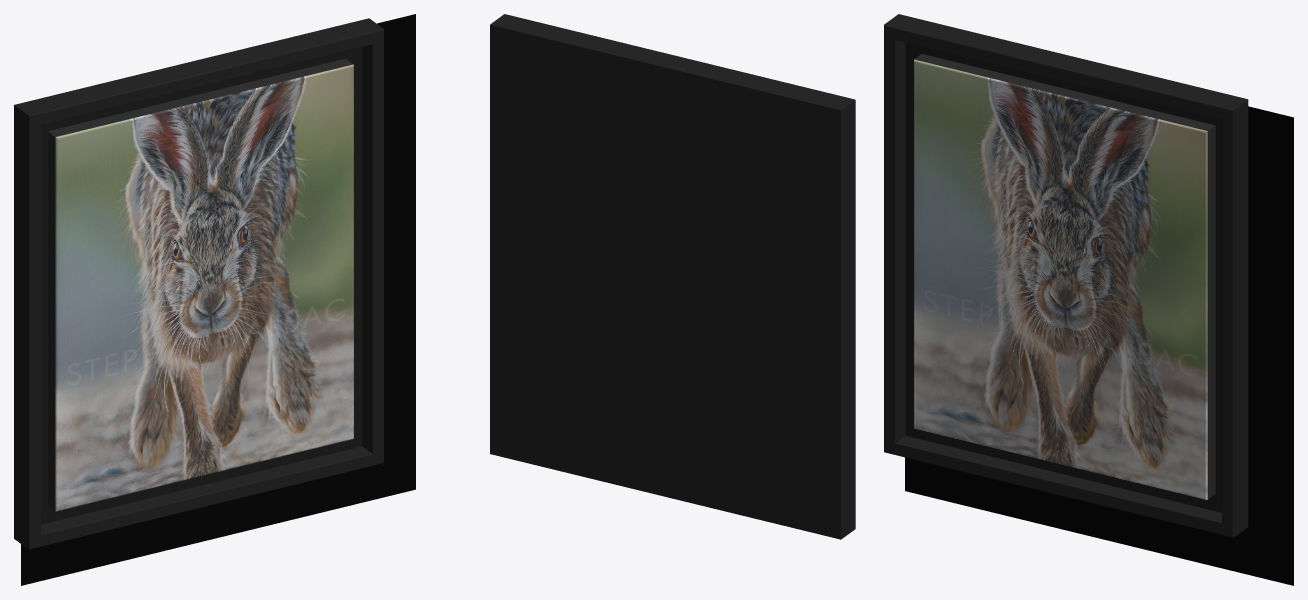
Rendered from tableau-peinture-lievre-course-classique-ff2bd219.glb.
3 views of the same model, side by side, from view 1: azimuth 30°, elevation 25°; view 2: azimuth 150°, elevation 25°; view 3: azimuth 330°, elevation 25° (orthographic).
Visible parts, largest first — view 1: Painting; view 2: Painting; view 3: Painting.
Boxes of the visible parts, <box> form: Painting: <box>14,14,415,585</box>; Painting: <box>490,14,855,539</box>; Painting: <box>884,14,1293,585</box>.
Size of the model in its own units: 0.606 by 0.696 by 0.04.
5 materials, 3 textured.
